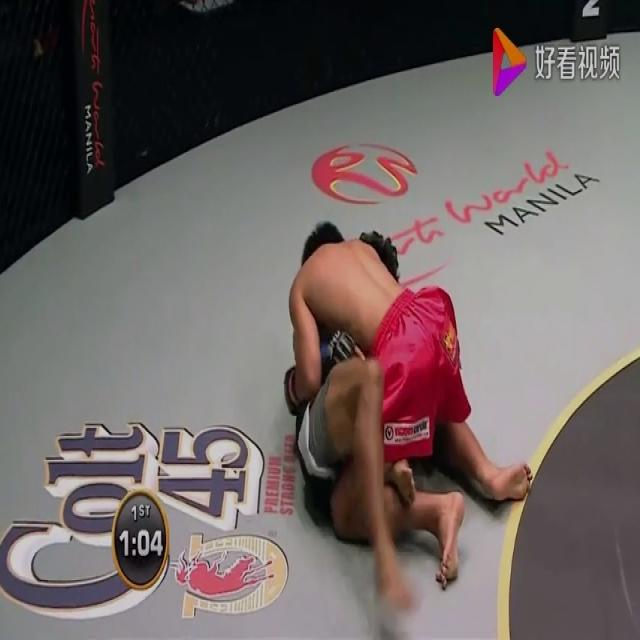fight: (281, 210, 535, 594)
